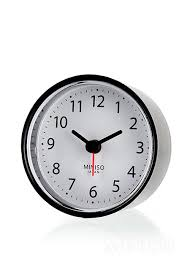alarm_clock: (18, 74, 170, 218)
